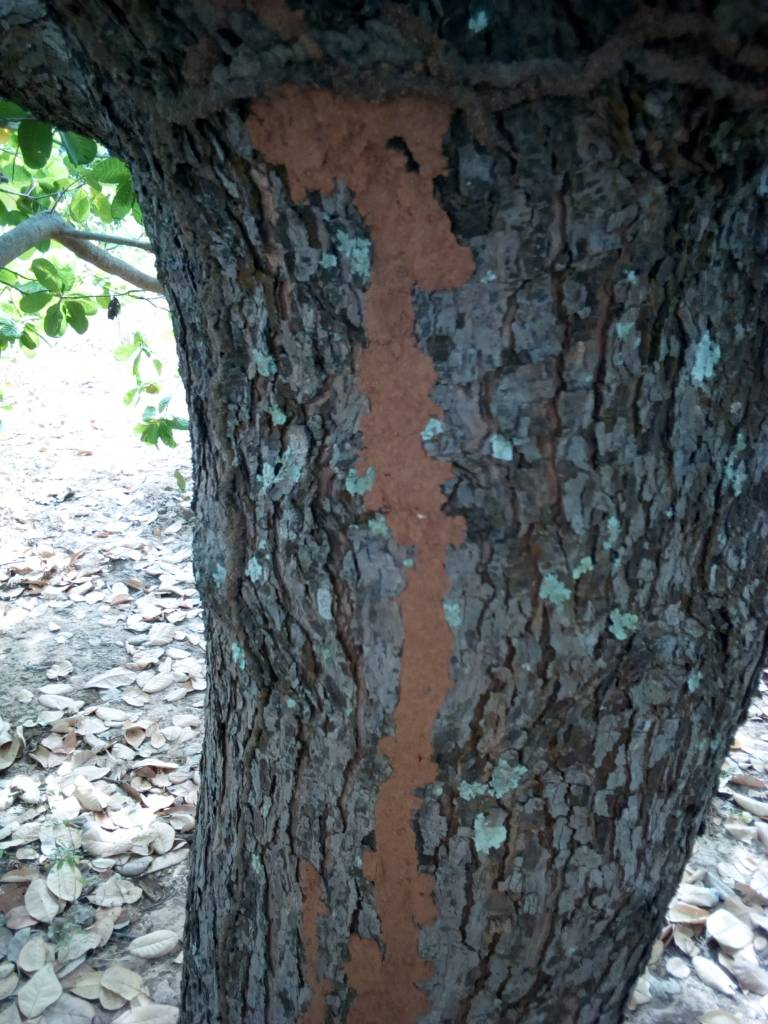Termites: (319, 107, 472, 1022)
